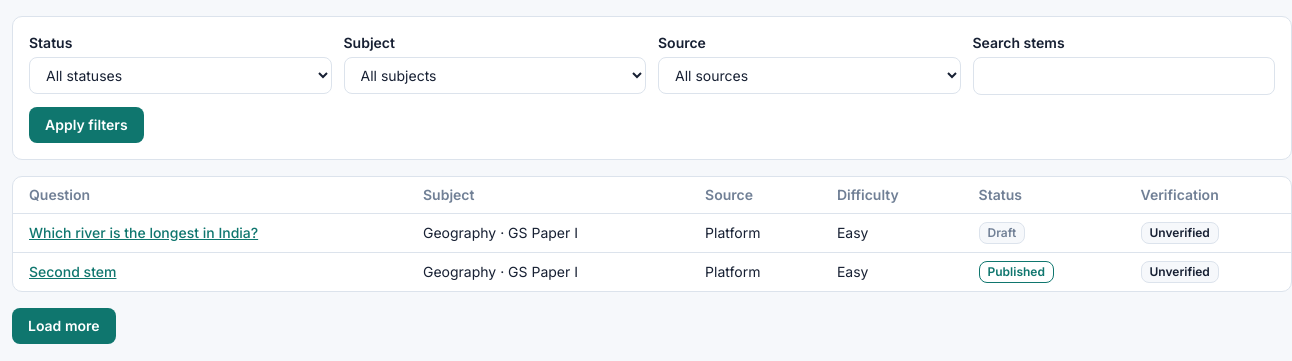
Scenario: QuestionsTable › renders rows with status and links; Load more appends and hides at the end
Expected: the text "Published" is shown, [978,261,1054,283]
Step 1. Click the button "Load more" → (64, 326), box [12,308,116,344]
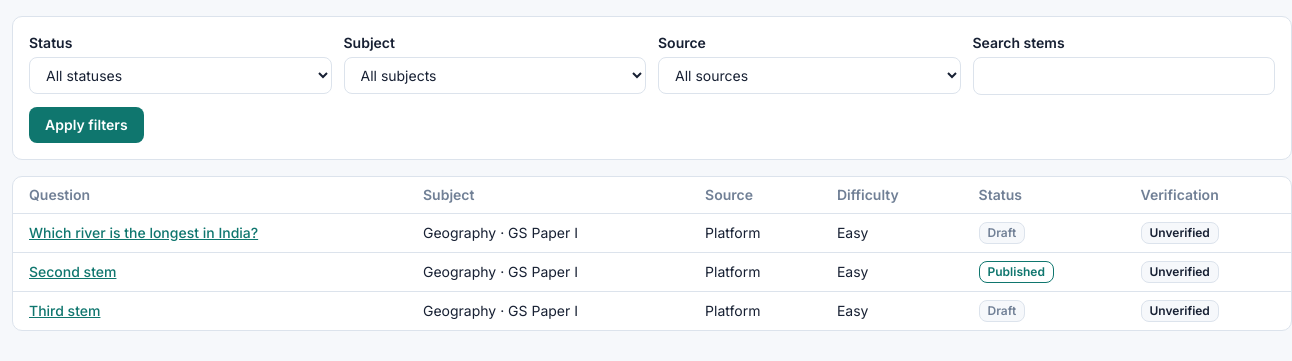
Expected: the link "Second stem" is shown, [29,263,116,280]
Expected: the link "Third stem" is shown, [29,302,100,319]
Expected: the button "Load more" is gone
